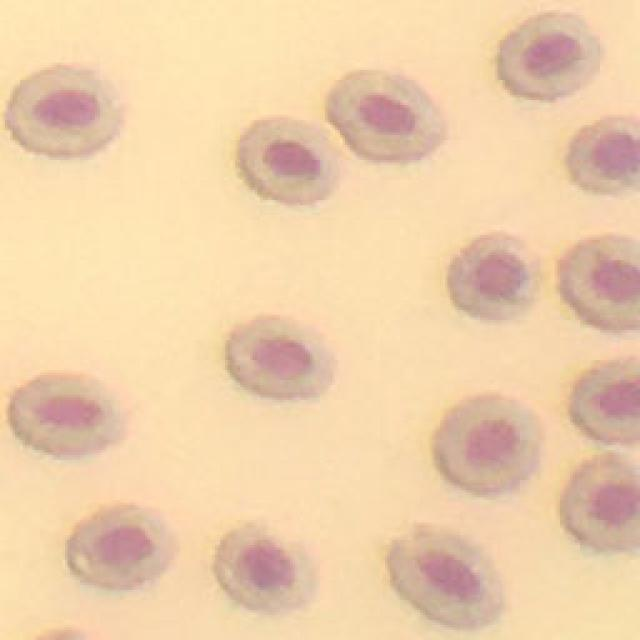RBC: (390, 528, 505, 630), (5, 65, 123, 158), (330, 70, 445, 162), (435, 398, 542, 496), (8, 373, 125, 460), (68, 507, 175, 592), (500, 12, 602, 100), (215, 528, 318, 615), (240, 118, 340, 205), (228, 320, 332, 400), (560, 235, 640, 332), (450, 235, 540, 320), (562, 458, 640, 553), (572, 362, 640, 444), (570, 118, 640, 195)
